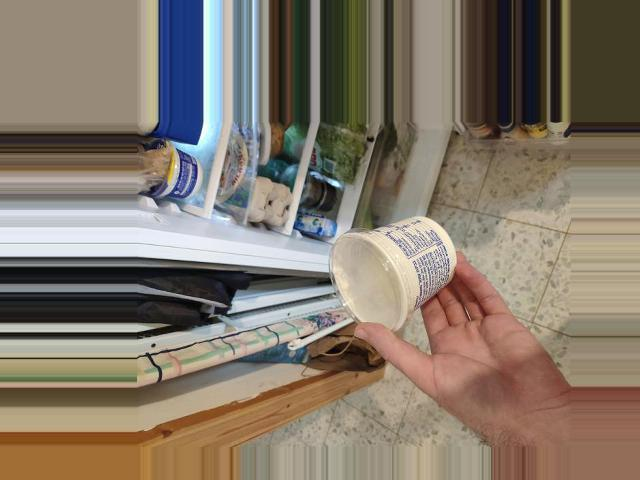cotage: (330, 221, 452, 317)
